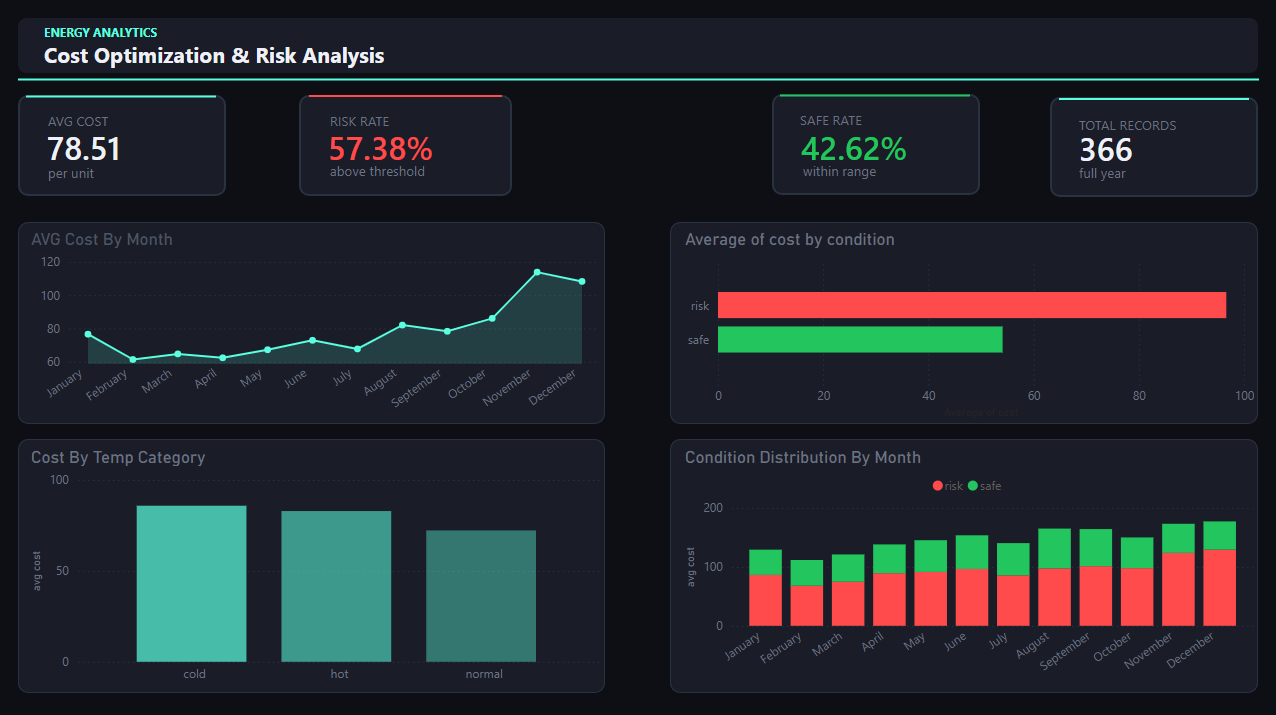

The page's visual inventory and layout, read from the dashboard file:
{"tool":"powerbi","page":{"name":"Page 1","canvas":[1280,720],"ordinal":0},"visuals":[{"type":"shape","box":[20,20,1240,55],"z":0,"group":"g1"},{"type":"shape","box":[774.4,96.7,207.8,101.1],"z":0,"group":"g3"},{"type":"shape","box":[672,224,588.1,201.9],"z":0},{"type":"shape","box":[300.8,97,212.7,100.9],"z":500,"group":"g2"},{"type":"shape","box":[19.6,97,207.8,100.9],"z":625,"group":"g4"},{"type":"shape","box":[1052.5,98.8,207.5,100],"z":750,"group":"g5"},{"type":"textbox","box":[41.2,19.6,199.9,28.4],"z":1000,"group":"g1"},{"type":"shape","box":[672,441.4,588.1,253.8],"z":1000},{"type":"textbox","box":[41.2,36.3,399.9,38.2],"z":2000,"group":"g1"},{"type":"shape","box":[19.6,224.4,587.1,201.9],"z":2000},{"type":"shape","box":[20,74.5,1240.8,12.7],"z":3000,"group":"g1"},{"type":"shape","box":[19.6,441,587.1,253.8],"z":3000},{"type":"lineChart","title":"AVG Cost By Month","fields":{"Y":["Avg(Query1.cost)"],"Category":["Query1.Datum.Variation.Date Hierarchy.Month"]},"box":[28,231,579,195],"z":4000},{"type":"clusteredBarChart","fields":{"Category":["Query1.condition"],"Y":["Avg(Query1.cost)"]},"box":[682,231,579,195],"z":5000},{"type":"clusteredColumnChart","title":"Cost By Temp Category","fields":{"Category":["Query3.temp_category"],"Y":["Avg(Query3.cost)"]},"box":[28,449,579,245],"z":6000},{"type":"columnChart","title":"Condition Distribution By Month","fields":{"Y":["Avg(Query3.cost)"],"Series":["Query3.condition"],"Category":["Query3.Datum.Variation.Date Hierarchy.Month"]},"box":[682,449,578,245],"z":7000},{"type":"group","id":"g1","title":"Group 1","box":[20,19.6,1240.8,67.6],"z":8000},{"type":"cardVisual","fields":{"Data":["Query1.Risk %"]},"box":[300.7,114,165.9,67],"z":8000,"group":"g2"},{"type":"cardVisual","fields":{"Data":["Query1.safe %"]},"box":[774.4,113.4,171.1,67.8],"z":9000,"group":"g3"},{"type":"shape","box":[1584.8,93.9,192.4,14.5],"z":10000},{"type":"cardVisual","fields":{"Data":["Count(Query1.Datum)"]},"box":[1052.1,115.5,117.9,65.5],"z":10000,"group":"g5"},{"type":"shape","box":[1873.3,93.3,192.4,14.5],"z":11000},{"type":"group","id":"g2","title":"Group 3","box":[300.7,90.7,212.8,107.2],"z":14000},{"type":"group","id":"g3","title":"Group 4","box":[774.4,90.4,207.8,107.4],"z":15000},{"type":"cardVisual","fields":{"Data":["Avg(Query1.cost)"]},"box":[19.9,112.5,140.1,69.5],"z":16000,"group":"g4"},{"type":"textbox","box":[44.5,108.6,84.1,33.1],"z":17000,"group":"g4"},{"type":"textbox","box":[44.5,160.7,65.2,26.9],"z":18000,"group":"g4"},{"type":"textbox","box":[327.1,108.7,80,26.9],"z":19000,"group":"g2"},{"type":"textbox","box":[327.1,159,108.7,28.4],"z":20000,"group":"g2"},{"type":"textbox","box":[797.9,108,72.5,27.9],"z":21000,"group":"g3"},{"type":"textbox","box":[800.3,159.1,86.1,27.9],"z":22000,"group":"g3"},{"type":"textbox","box":[1076.1,113.1,115.4,26.9],"z":23000,"group":"g5"},{"type":"group","id":"g4","title":"Group 5","box":[19.6,97,207.8,100.9],"z":24002},{"type":"textbox","box":[1076.1,160.8,63.1,28.5],"z":24003,"group":"g5"},{"type":"group","id":"g5","title":"Group 2","box":[1052.1,98.8,207.9,100],"z":24004},{"type":"shape","box":[310.7,90.7,192.6,14.4],"z":26000,"group":"g2"},{"type":"shape","box":[782.8,90.4,190,14.6],"z":27000,"group":"g3"},{"type":"shape","box":[27.8,91.1,190,14.4],"z":27000},{"type":"shape","box":[1061,93.5,190,14.5],"z":27000}]}

Visuals, with their boxes in screenshot pixels (x1, y1, x2, y2), scaled from the page's 1280x720 canvas onto the 1276x715 screenshot:
shape: 20/20/1256/74
shape: 772/96/979/196
shape: 670/222/1256/423
shape: 300/96/512/197
shape: 20/96/227/197
shape: 1049/98/1256/197
textbox: 41/19/240/48
shape: 670/438/1256/690
textbox: 41/36/440/74
shape: 20/223/605/423
shape: 20/74/1257/87
shape: 20/438/605/690
"AVG Cost By Month" lineChart: 28/229/605/423
clusteredBarChart - Query1.condition x Avg(Query1.cost): 680/229/1257/423
"Cost By Temp Category" clusteredColumnChart: 28/446/605/689
"Condition Distribution By Month" columnChart: 680/446/1256/689
"Group 1" group: 20/19/1257/87
cardVisual - Query1.Risk %: 300/113/465/180
cardVisual - Query1.safe %: 772/113/943/180
cardVisual - Count(Query1.Datum): 1049/115/1166/180
"Group 3" group: 300/90/512/197
"Group 4" group: 772/90/979/196
cardVisual - Avg(Query1.cost): 20/112/160/181
textbox: 44/108/128/141
textbox: 44/160/109/186
textbox: 326/108/406/135
textbox: 326/158/434/186
textbox: 795/107/868/135
textbox: 798/158/884/186
textbox: 1073/112/1188/139
"Group 5" group: 20/96/227/197
textbox: 1073/160/1136/188
"Group 2" group: 1049/98/1256/197
shape: 310/90/502/104
shape: 780/90/970/104
shape: 28/90/217/105
shape: 1058/93/1247/107
